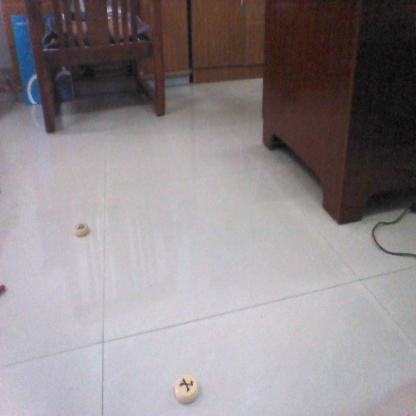chess: (172, 376, 204, 404), (70, 222, 91, 240)
